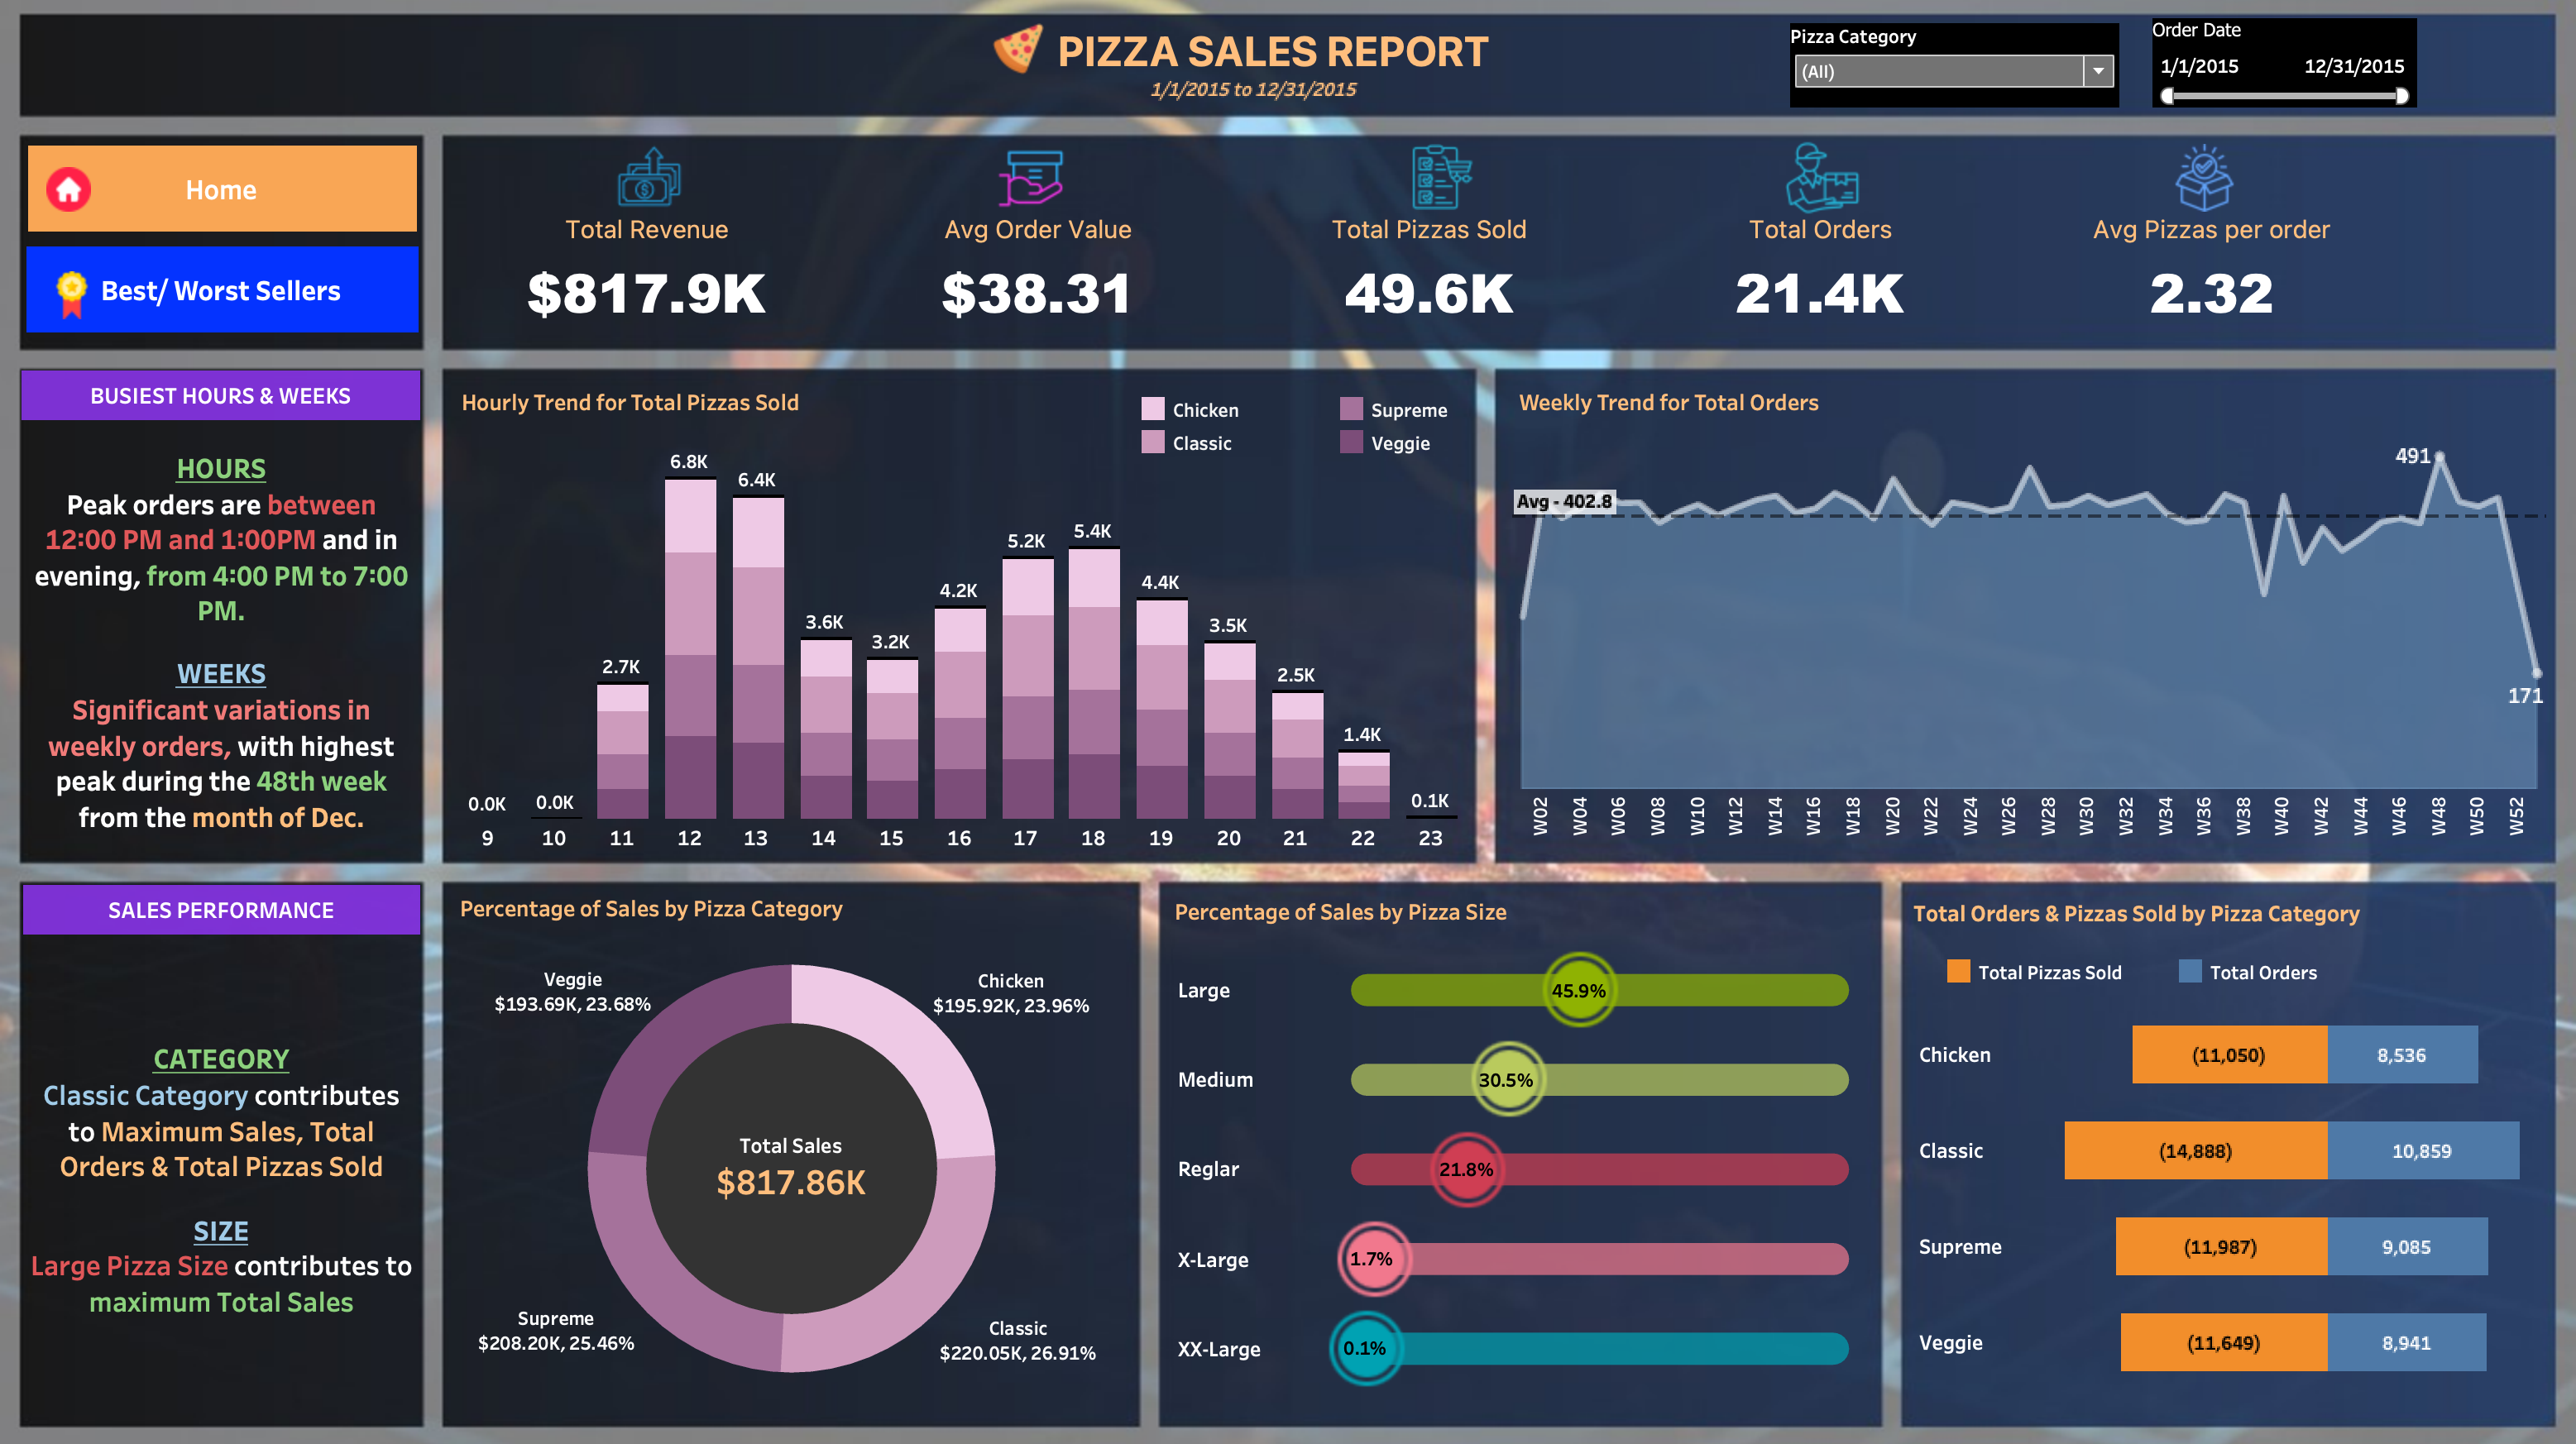

What the dashboard file says about the page in this screenshot:
{"tool":"tableau","page":{"name":"Home","canvas":[1600,900],"ordinal":1},"visuals":[{"type":"image","param":"/Users/akhilnashaboina/Documents/SQL Project/Pizza Tableau 1.jpg","box":[8,8,1584,884]},{"type":"filter","title":"Hourly Trend for Total Pizzas Sold","param":"[federated.0vrkli61wh02i913dqwdv1n3ouzb].[none:order_date:qk]","box":[1322,24,160,54]},{"type":"image","param":"/Users/akhilnashaboina/Documents/SQL Project/Icons/pizza-slice.png","box":[615,27,43,31]},{"type":"filter","title":"Hourly Trend for Total Pizzas Sold","param":"[federated.0vrkli61wh02i913dqwdv1n3ouzb].[none:pizza_category:nk]","box":[1103,27,199,51]},{"type":"text","box":[658,29,280,30]},{"type":"worksheet","title":"Date Range","mark":"Automatic","box":[672,53,213,27]},{"type":"image","param":"/Users/akhilnashaboina/Documents/SQL Project/Icons/profit-growth.png","box":[382,98,63,43]},{"type":"image","param":"/Users/akhilnashaboina/Documents/SQL Project/Icons/delivery-man.png","box":[1100,98,45,45]},{"type":"image","param":"/Users/akhilnashaboina/Documents/SQL Project/Icons/shipping-box.png","box":[616,99,56,44]},{"type":"image","param":"/Users/akhilnashaboina/Documents/SQL Project/Icons/order-delivery.png","box":[867,100,52,40]},{"type":"image","param":"/Users/akhilnashaboina/Documents/SQL Project/Icons/order (1).png","box":[1329,100,50,41]},{"type":"dashboard-object","box":[38,101,235,52]},{"type":"image","param":"/Users/akhilnashaboina/Documents/SQL Project/Icons/home (1).png","box":[49,114,31,27]},{"type":"worksheet","title":"KPI Banner","mark":"Automatic","box":[294,141,1182,78]},{"type":"dashboard-object","box":[37,162,237,52]},{"type":"image","param":"/Users/akhilnashaboina/Documents/SQL Project/Icons/choice.png","box":[50,177,31,29]},{"type":"text","box":[34,237,241,30]},{"type":"worksheet","title":"Hourly Trend for Total Pizzas Sold","mark":"Bar","rows":["Calculation_4425912534029225987","Calculation_4425912534029225987"],"cols":["order_time"],"box":[296,243,611,286]},{"type":"worksheet","title":"Weekly Trend for Total Orders","mark":"Area","rows":["Calculation_4425912534027485185","Calculation_4425912534027485185"],"cols":["order_date"],"box":[935,243,625,287]},{"type":"legend","title":"Hourly Trend for Total Pizzas Sold","param":"[federated.0vrkli61wh02i913dqwdv1n3ouzb].[none:pizza_category:nk]","box":[708,250,341,50]},{"type":"text","box":[36,268,238,263]},{"type":"text","box":[35,548,240,30]},{"type":"worksheet","title":"Percentage of Sales by Pizza Category","mark":"Pie","rows":["Calculation_4425912534559879177","Calculation_4425912534559928331"],"box":[295,549,409,308]},{"type":"text","box":[1175,550,288,30]},{"type":"worksheet","title":"Percentage of Sales by Pizza Size","mark":"Line","rows":["pizza_size"],"box":[727,551,426,304]},{"type":"text","box":[36,582,238,275]},{"type":"legend","title":"Total Orders & Pizzas Sold by Pizza Category","param":"[federated.0vrkli61wh02i913dqwdv1n3ouzb].[:Measure Names]","box":[1195,590,284,32]},{"type":"worksheet","title":"Total Orders & Pizzas Sold by Pizza Category","mark":"Automatic","rows":["pizza_category"],"box":[1175,621,383,232]}]}

Visuals, with their boxes in screenshot pixels (x1, y1, x2, y2), scaled from the page's 1600x900 canvas onto the 2576x1444 screenshot:
image: pyautogui.locateOnScreen(13, 13, 2563, 1431)
"Hourly Trend for Total Pizzas Sold" filter: pyautogui.locateOnScreen(2128, 39, 2386, 125)
image: pyautogui.locateOnScreen(990, 43, 1060, 93)
"Hourly Trend for Total Pizzas Sold" filter: pyautogui.locateOnScreen(1776, 43, 2096, 125)
text: pyautogui.locateOnScreen(1060, 46, 1511, 94)
"Date Range" worksheet: pyautogui.locateOnScreen(1082, 85, 1424, 128)
image: pyautogui.locateOnScreen(615, 157, 716, 227)
image: pyautogui.locateOnScreen(1771, 157, 1843, 229)
image: pyautogui.locateOnScreen(992, 159, 1082, 229)
image: pyautogui.locateOnScreen(1396, 160, 1480, 225)
image: pyautogui.locateOnScreen(2140, 160, 2220, 227)
dashboard-object: pyautogui.locateOnScreen(61, 162, 439, 246)
image: pyautogui.locateOnScreen(79, 183, 129, 227)
"KPI Banner" worksheet: pyautogui.locateOnScreen(473, 227, 2377, 351)
dashboard-object: pyautogui.locateOnScreen(60, 260, 441, 343)
image: pyautogui.locateOnScreen(80, 284, 131, 331)
text: pyautogui.locateOnScreen(55, 380, 443, 428)
"Hourly Trend for Total Pizzas Sold" worksheet (Bar marks): pyautogui.locateOnScreen(476, 390, 1460, 849)
"Weekly Trend for Total Orders" worksheet (Area marks): pyautogui.locateOnScreen(1506, 390, 2511, 850)
"Hourly Trend for Total Pizzas Sold" legend: pyautogui.locateOnScreen(1140, 401, 1689, 481)
text: pyautogui.locateOnScreen(58, 430, 441, 852)
text: pyautogui.locateOnScreen(56, 879, 443, 927)
"Percentage of Sales by Pizza Category" worksheet (Pie marks): pyautogui.locateOnScreen(475, 881, 1133, 1375)
text: pyautogui.locateOnScreen(1892, 882, 2355, 930)
"Percentage of Sales by Pizza Size" worksheet (Line marks): pyautogui.locateOnScreen(1171, 884, 1856, 1372)
text: pyautogui.locateOnScreen(58, 934, 441, 1375)
"Total Orders & Pizzas Sold by Pizza Category" legend: pyautogui.locateOnScreen(1924, 947, 2382, 998)
"Total Orders & Pizzas Sold by Pizza Category" worksheet: pyautogui.locateOnScreen(1892, 997, 2508, 1369)
